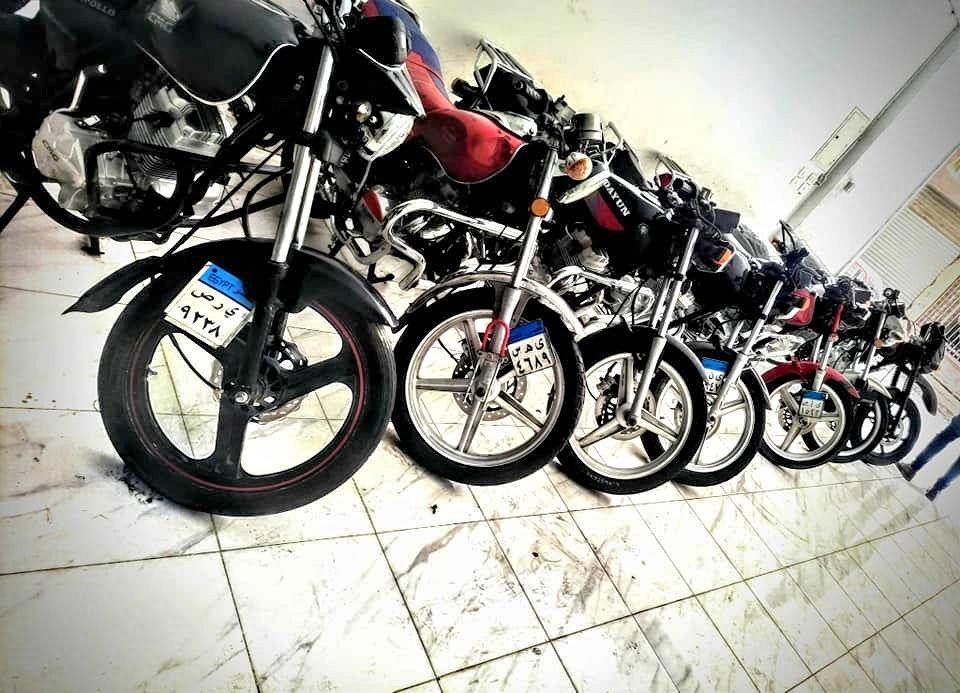License Plate: (168, 259, 261, 345), (508, 319, 562, 375), (796, 388, 828, 420)
